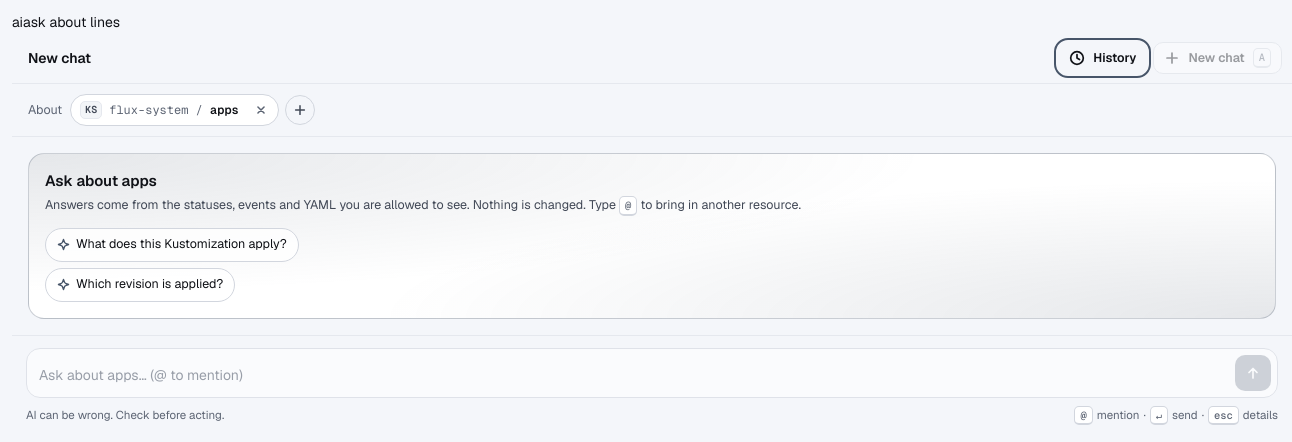
Test case: Ask AI chats › Esc clears a draft first, then returns to Details
This screenshot has width=1292, height=442.
Type "half a question" into the dropdown named "Ask AI" at (633, 374), box [39, 358, 1227, 390]
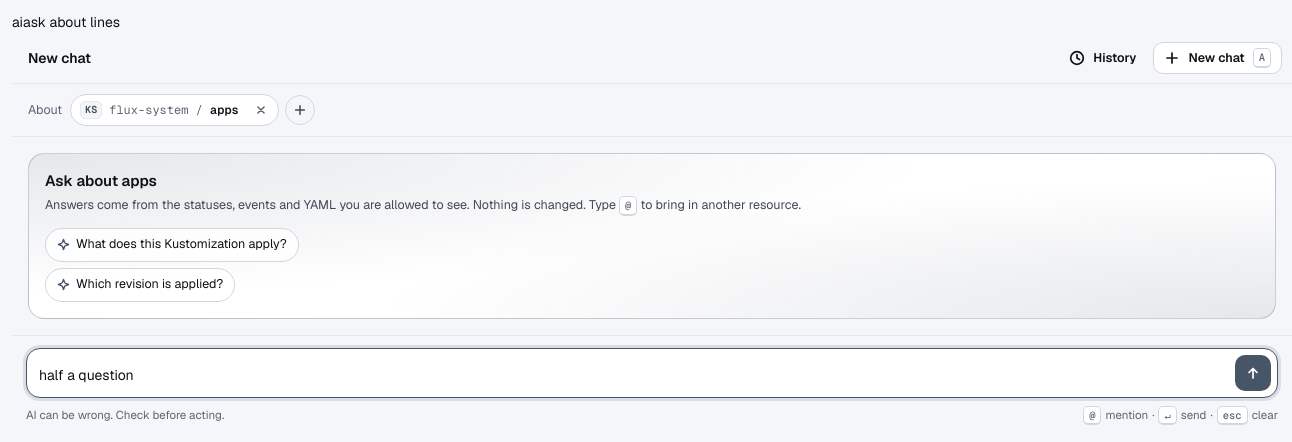
Press Escape
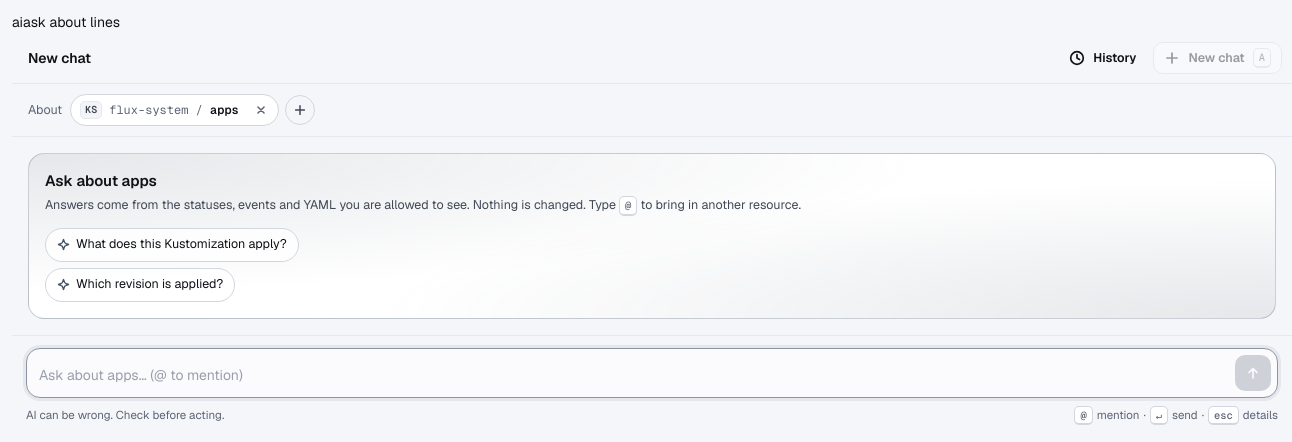
Now the dropdown named "Ask AI" is empty, box [39, 358, 1227, 390]
Press Escape
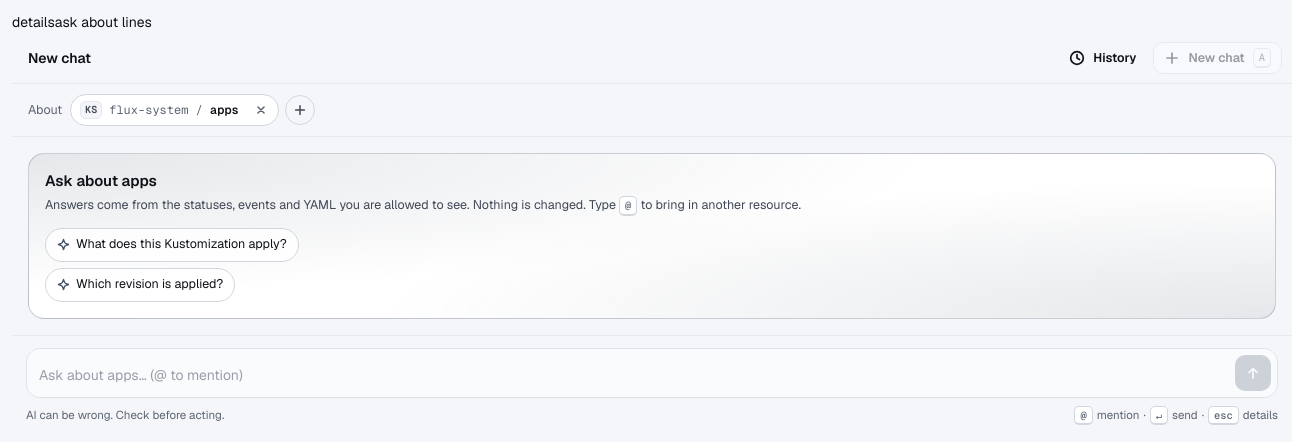
Now the text named "pane" reads "details", box [12, 13, 55, 31]
